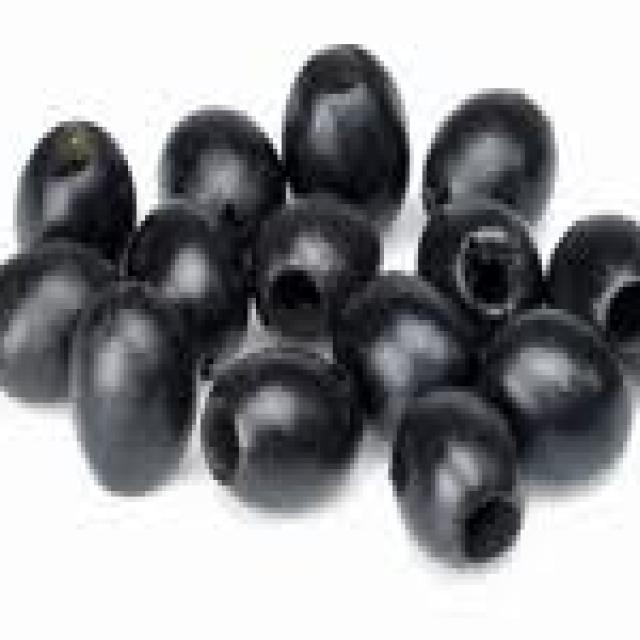olive: (0, 33, 640, 574)
